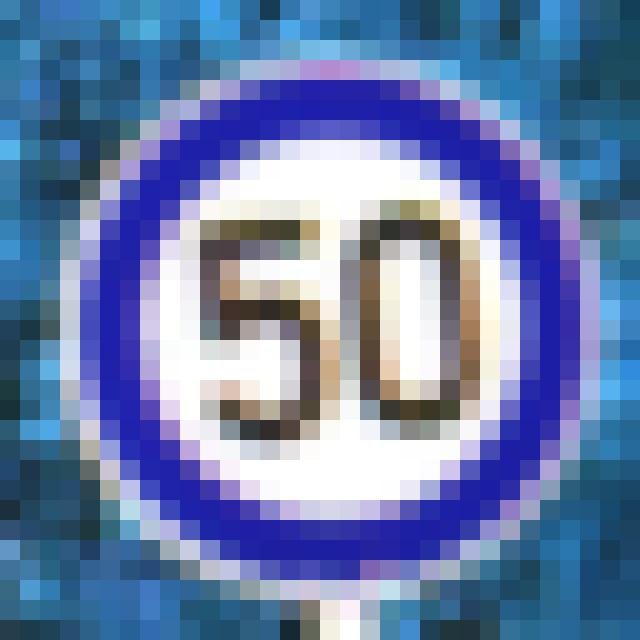SPEED LIMIT 50: (78, 94, 578, 574)
